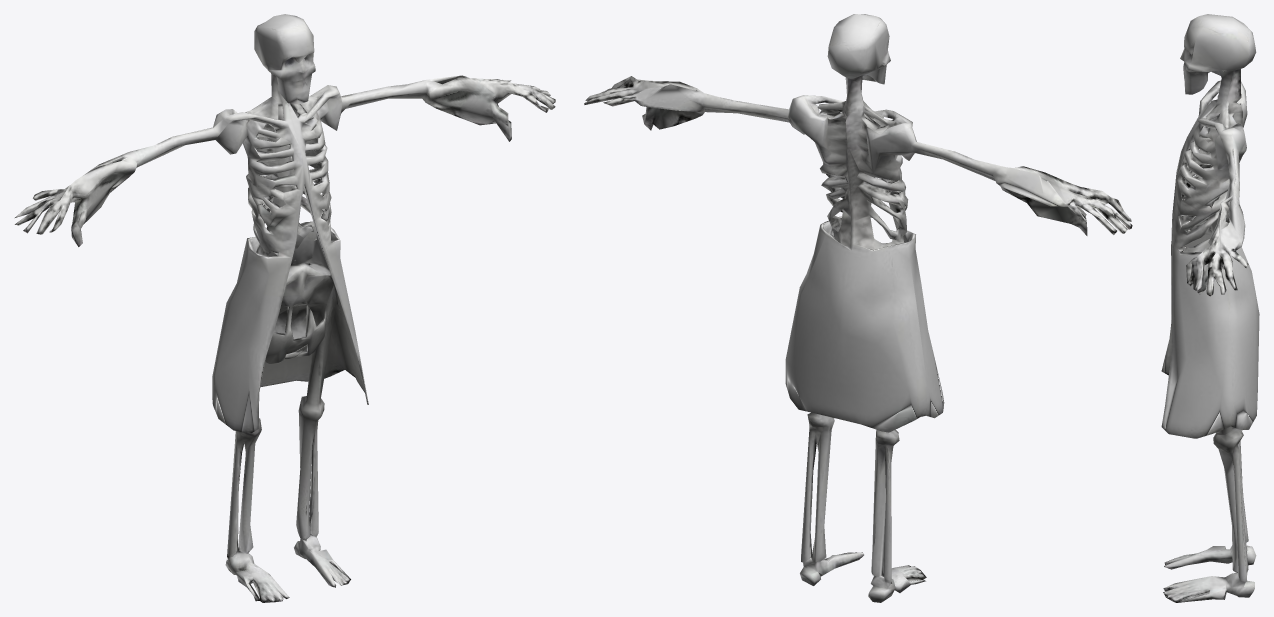
File: skeleton.glb
The picture shows the model from 3 angles, left to right: view 1: azimuth 30°, elevation 25°; view 2: azimuth 150°, elevation 25°; view 3: azimuth 270°, elevation 25°; orthographic projection.
Visible parts, largest first — view 1: skeleton; view 2: skeleton; view 3: skeleton.
Part boxes in pixels (x1=…): skeleton: x1=15, y1=14, x2=555, y2=602; skeleton: x1=584, y1=14, x2=1132, y2=602; skeleton: x1=1161, y1=14, x2=1259, y2=602.
Size of the model in its own units: 0.9979 by 0.9958 by 0.1567.
Materials: 1 (1 with a texture image).
